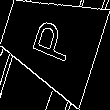P_W: (25, 15, 77, 67)
